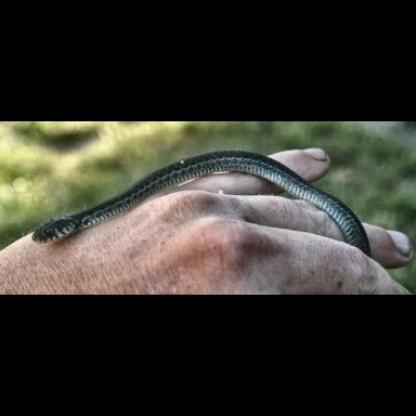Snake: (22, 144, 378, 252)
